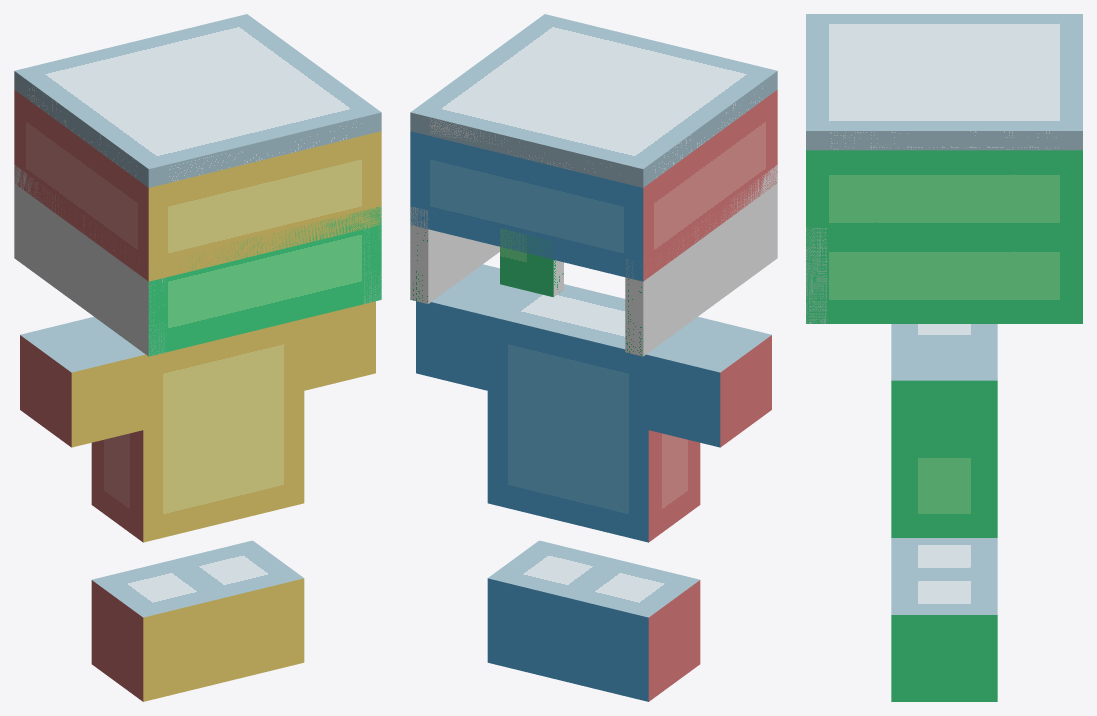
The model's file is armor.gltf.
3 views of the same model, side by side, from view 1: azimuth 30°, elevation 25°; view 2: azimuth 150°, elevation 25°; view 3: azimuth 270°, elevation 25° (orthographic). The views are drawn at different scales.
Parts seen in each view (by area): view 1: Helmet (×4), Chestplate, LeftBoot, LeftChestplateShoulder, RightBoot, RightChestplateShoulder; view 2: Helmet (×5), Chestplate, LeftBoot, LeftChestplateShoulder, RightBoot, RightChestplateShoulder; view 3: Helmet (×4), RightBoot, RightChestplateShoulder, Chestplate, LeftBoot.
Part boxes in pixels (x1,y1,x2,y2): Helmet (×4): [14, 14, 381, 356]; Chestplate: [91, 317, 304, 542]; LeftBoot: [91, 562, 232, 701]; LeftChestplateShoulder: [20, 317, 143, 447]; RightBoot: [163, 540, 304, 679]; RightChestplateShoulder: [304, 301, 375, 390]; Helmet (×5): [410, 14, 777, 356]; Chestplate: [487, 284, 700, 542]; LeftBoot: [559, 562, 700, 701]; LeftChestplateShoulder: [648, 317, 771, 447]; RightBoot: [487, 540, 628, 679]; RightChestplateShoulder: [416, 264, 522, 390]; Helmet (×4): [806, 14, 1082, 323]; RightBoot: [891, 579, 997, 701]; RightChestplateShoulder: [891, 344, 997, 457]; Chestplate: [891, 324, 997, 537]; LeftBoot: [891, 538, 997, 578].
Size of the model in its own units: 0.5312 by 0.9531 by 0.4063.
Materials: 1 (1 with a texture image).
